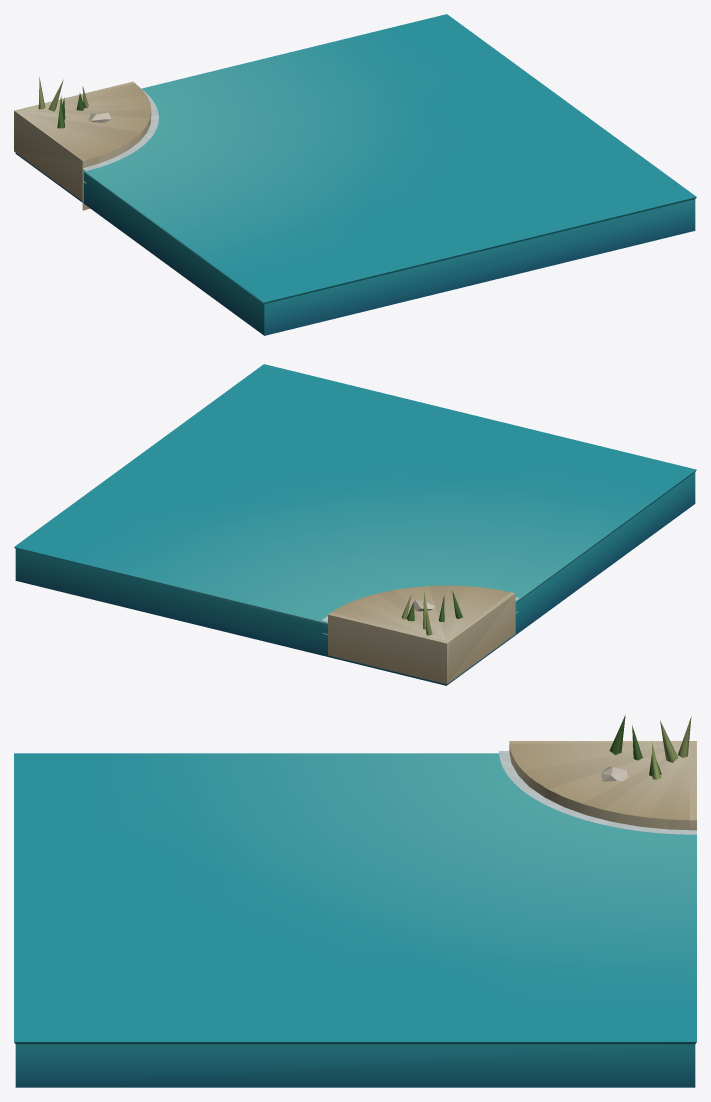
The model's file is shore-corner-out.glb.
3 renders of one model, top to bottom at view 1: azimuth 30°, elevation 25°; view 2: azimuth 150°, elevation 25°; view 3: azimuth 270°, elevation 25°, orthographic. The views are drawn at different scales.
Visible parts, largest first — view 1: shore_corner_out; view 2: shore_corner_out; view 3: shore_corner_out.
Boxes of the visible parts, x1,y1,x2,y2 form: shore_corner_out: (14, 14, 696, 335); shore_corner_out: (14, 364, 696, 685); shore_corner_out: (14, 715, 696, 1087).
Bounding box in the file's own units: 4 × 0.7339 × 4.
